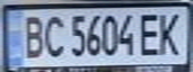0: (100, 11, 121, 57)
4: (118, 10, 139, 57)
5: (66, 11, 87, 57)
6: (84, 11, 103, 57)
B: (18, 11, 48, 60)
C: (39, 11, 66, 60)
E: (136, 10, 163, 57)
K: (154, 9, 187, 56)
